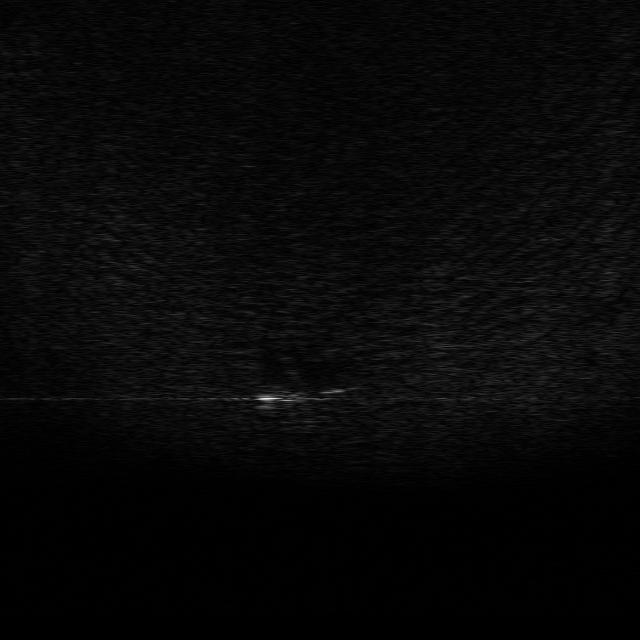plane: (248, 366, 352, 428)
